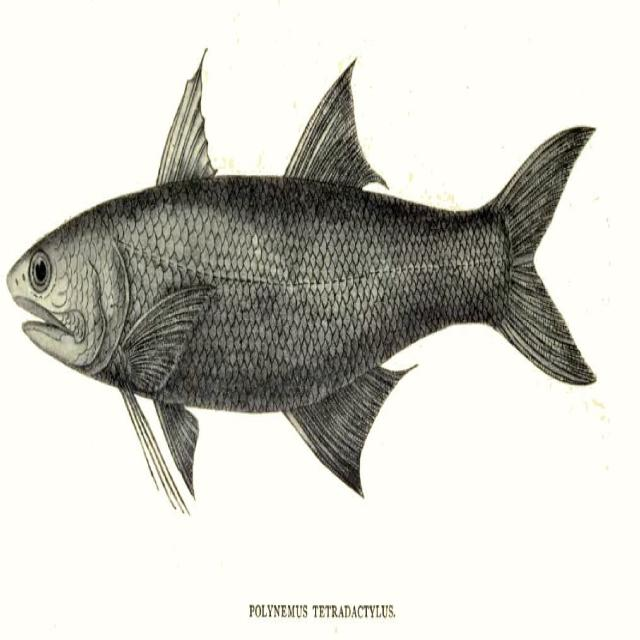Fourfinger-Threadfin: (0, 48, 625, 522)
